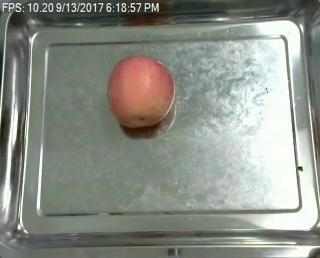apple: (107, 55, 175, 128)
